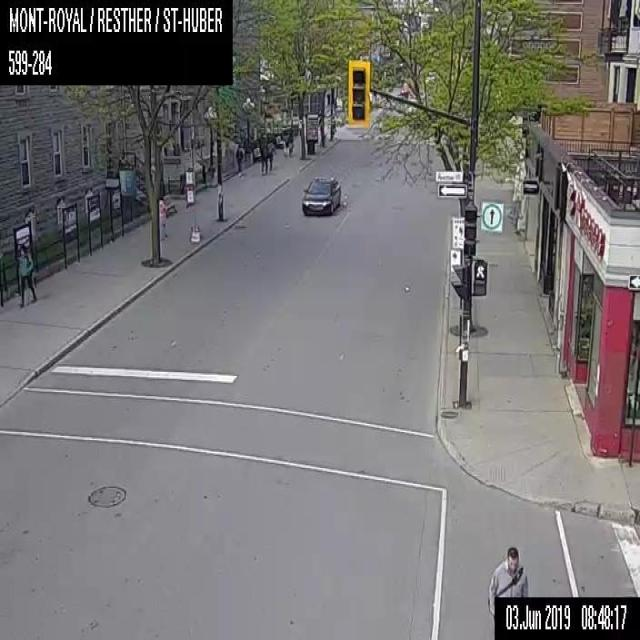pedestrian: (487, 545, 529, 616), (18, 244, 37, 305), (158, 197, 167, 239), (235, 144, 243, 175), (261, 141, 268, 174), (268, 142, 276, 170), (286, 132, 293, 156), (331, 115, 335, 138)
vehicle: (301, 176, 340, 215)
